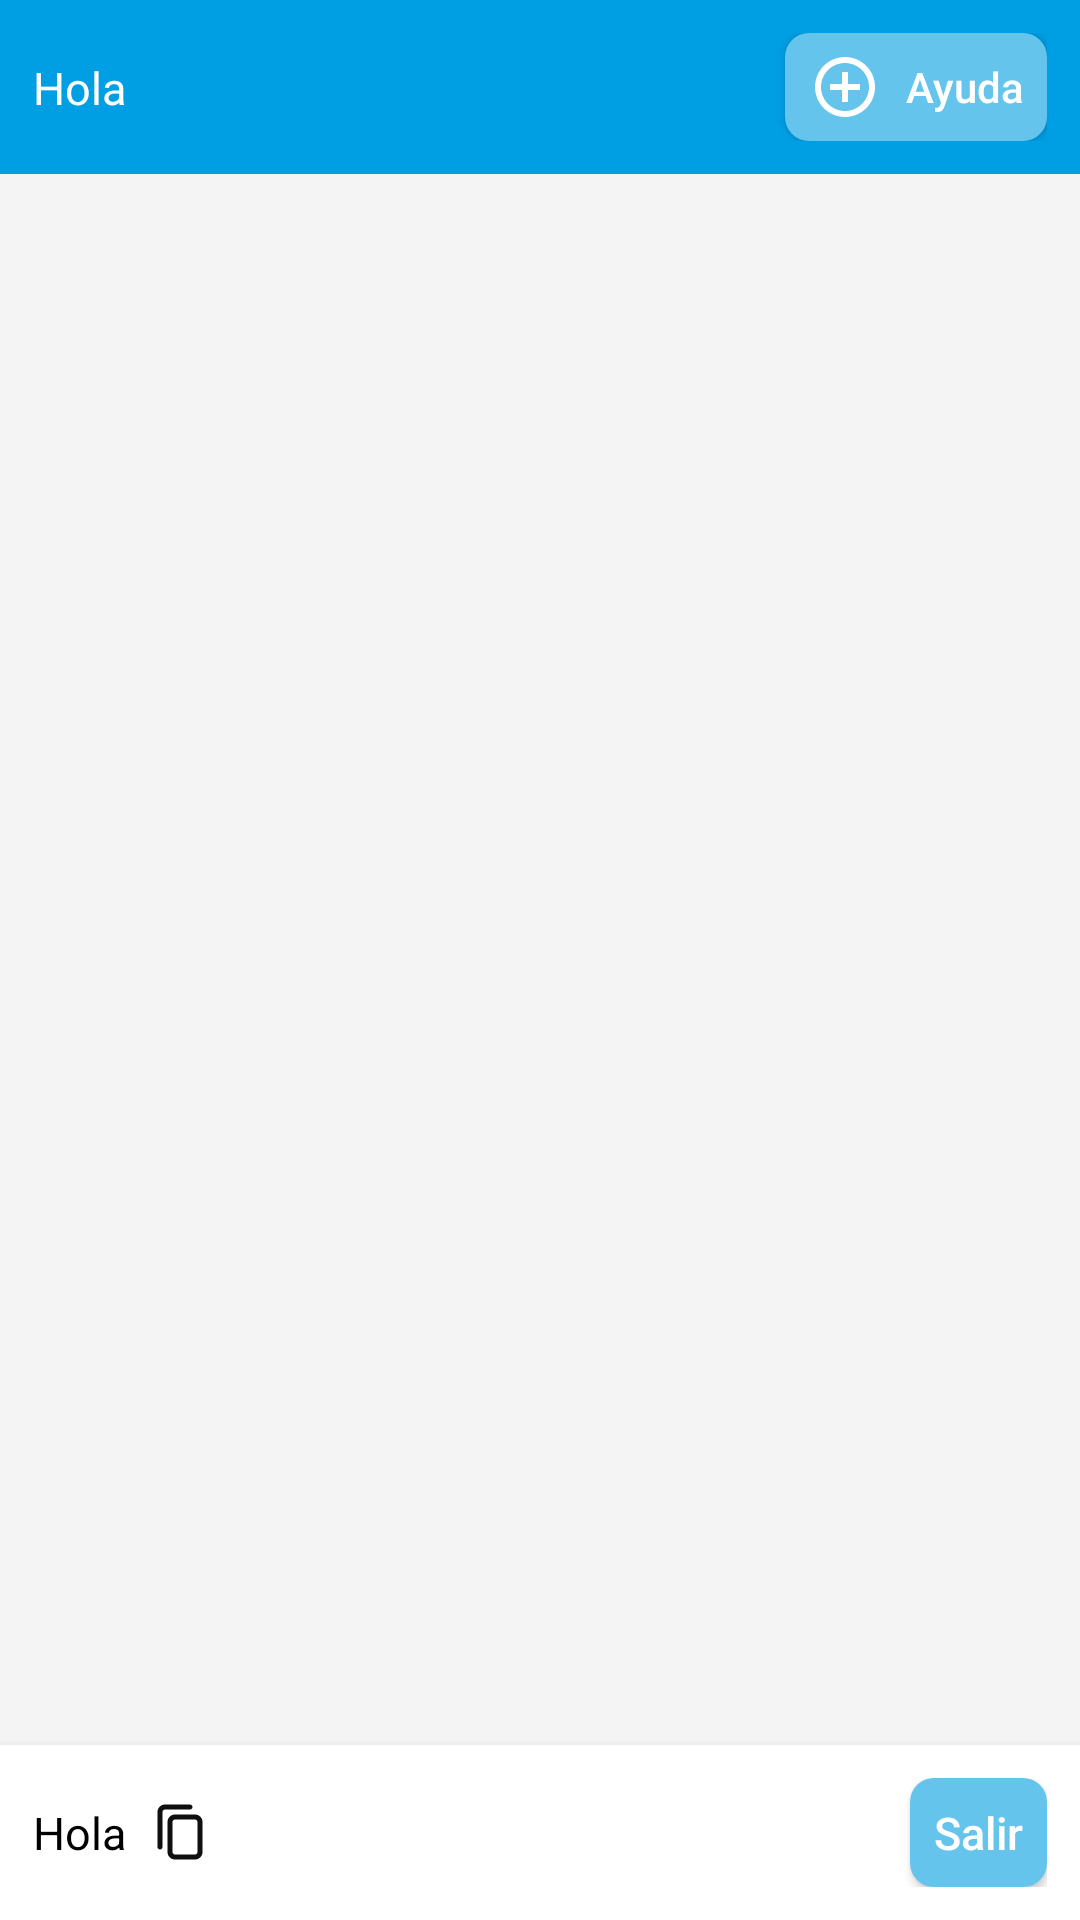

Icon bounding boxes for this 1080 × 1920 phone screenshot, format (x1, y1, x2, y2):
Copiar: (157, 1804, 203, 1860)
